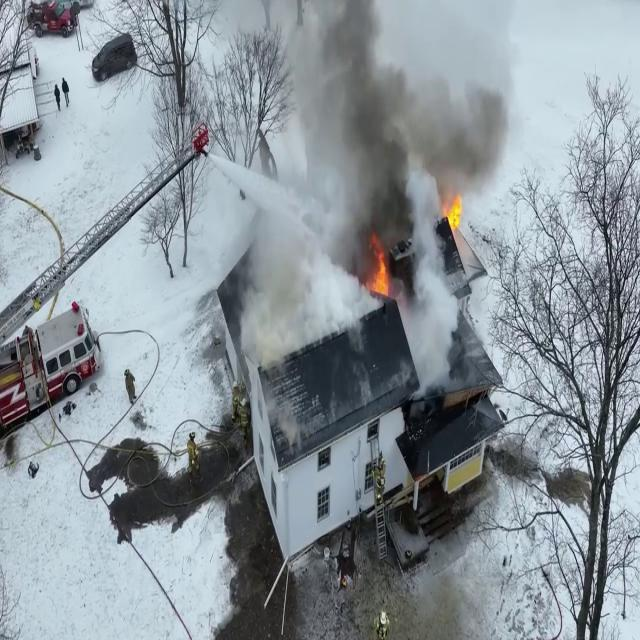Fire: (367, 236, 393, 302), (442, 190, 465, 245)
Smoke: (244, 0, 516, 364)
